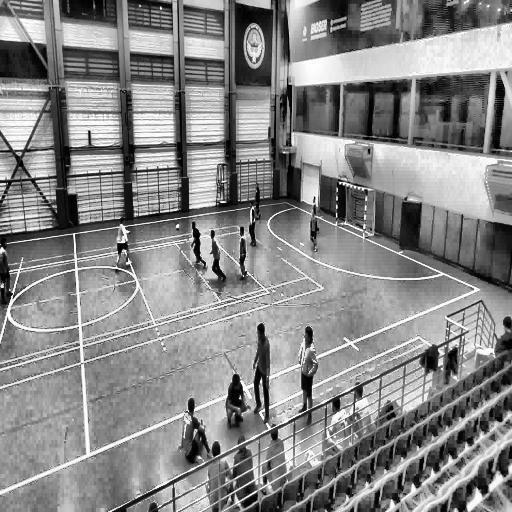ball: (174, 222, 180, 230)
player: (178, 397, 213, 467), (297, 325, 318, 423), (251, 322, 271, 420), (260, 423, 288, 489), (206, 441, 232, 510), (324, 392, 350, 458), (232, 436, 257, 504), (224, 371, 250, 430), (351, 383, 375, 435), (114, 215, 132, 271), (209, 228, 226, 282), (0, 235, 13, 304), (190, 221, 206, 268), (238, 226, 248, 281), (309, 194, 318, 240), (248, 200, 257, 246), (310, 207, 319, 253), (254, 182, 262, 221)
